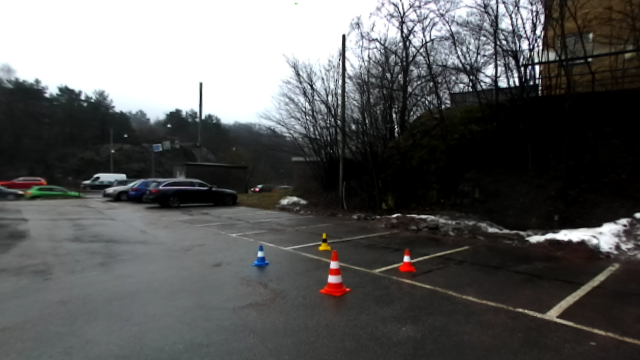blue: (254, 245, 270, 269)
orange: (396, 244, 416, 276)
orange2: (319, 249, 349, 297)
yellow: (317, 231, 332, 252)
